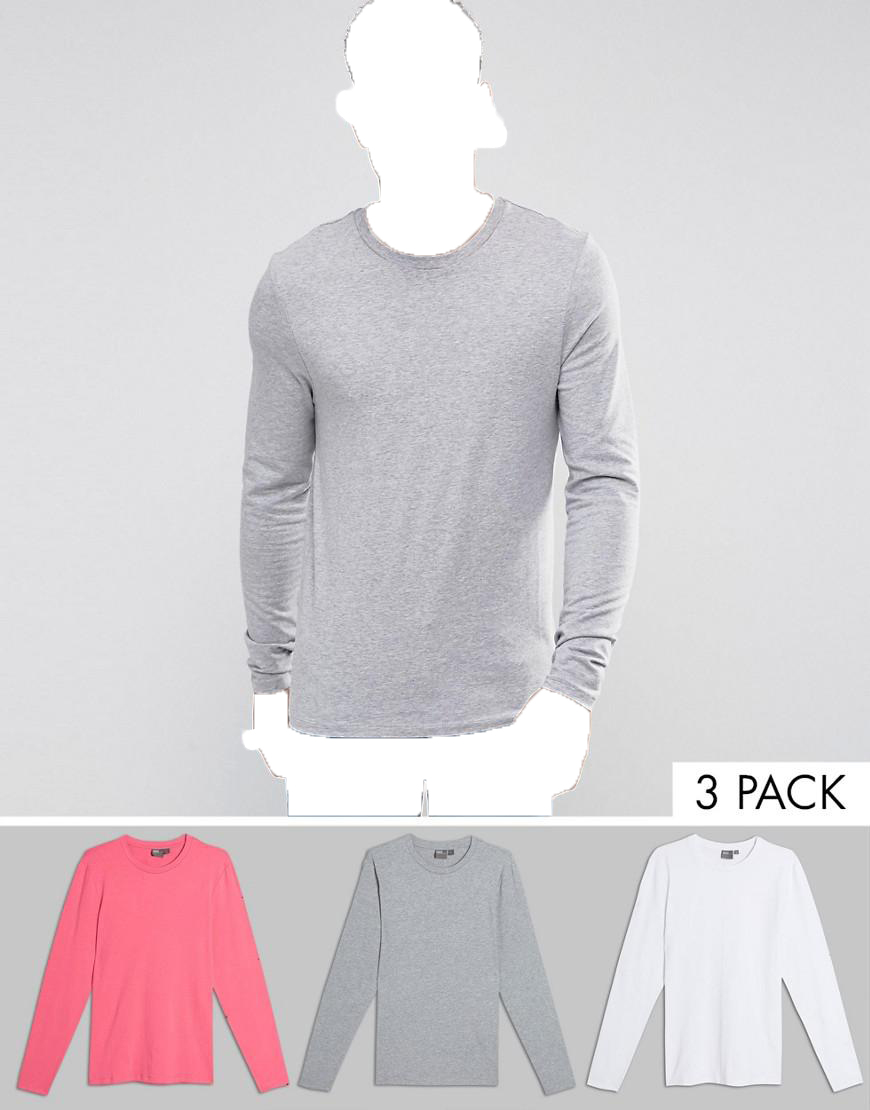teeshirt: (235, 196, 651, 735), (290, 834, 579, 1108), (586, 835, 863, 1110), (13, 834, 291, 1098)
